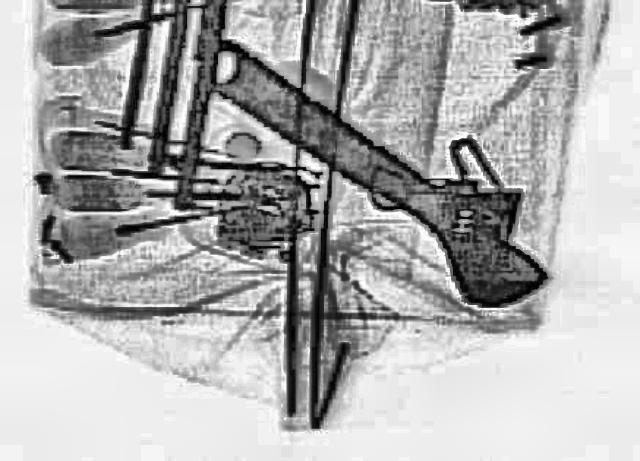Wrench: (144, 9, 600, 317)
